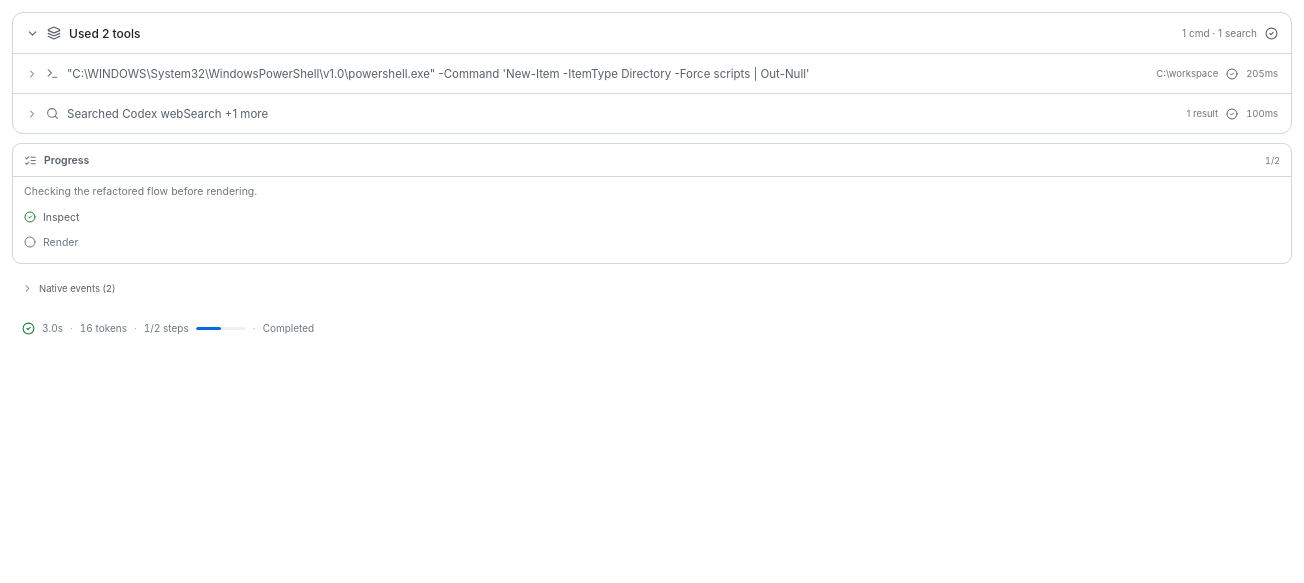
Test case: CodexTranscriptRenderer › always expands a zero-output command and exposes its complete invocation
Expected: the button with class "codex-native-group-header" shows "Used 2 tools", [13,13,1291,53]
Click the 1st button with class "codex-native-activity-header" at (652, 74), box [13,54,1291,93]
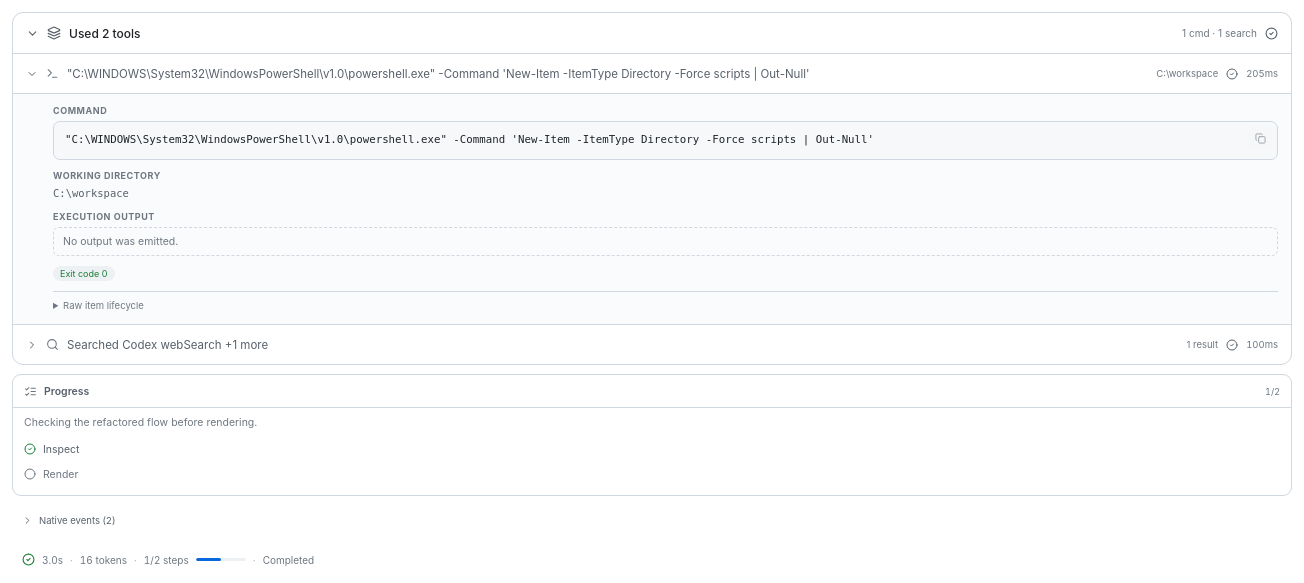
Now the text "No output was emitted." is shown, box [63,235,178,248]
Now the text "Exit code 0" is shown, box [13,54,1291,324]
